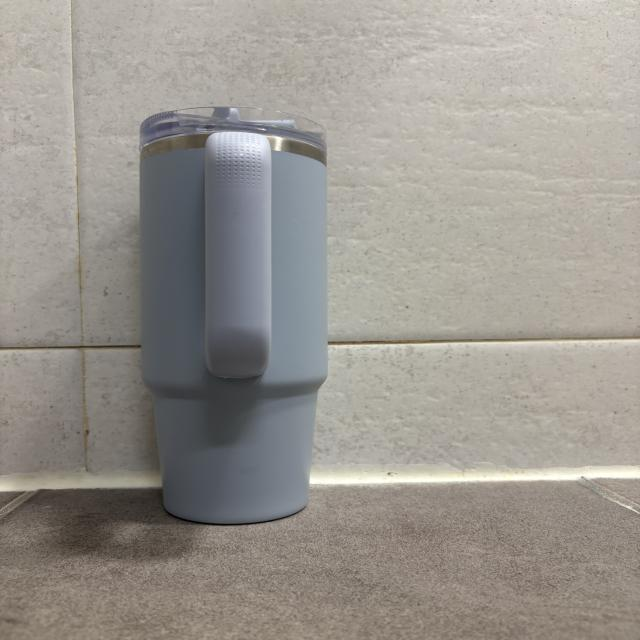waterbottle: (140, 104, 329, 526)
